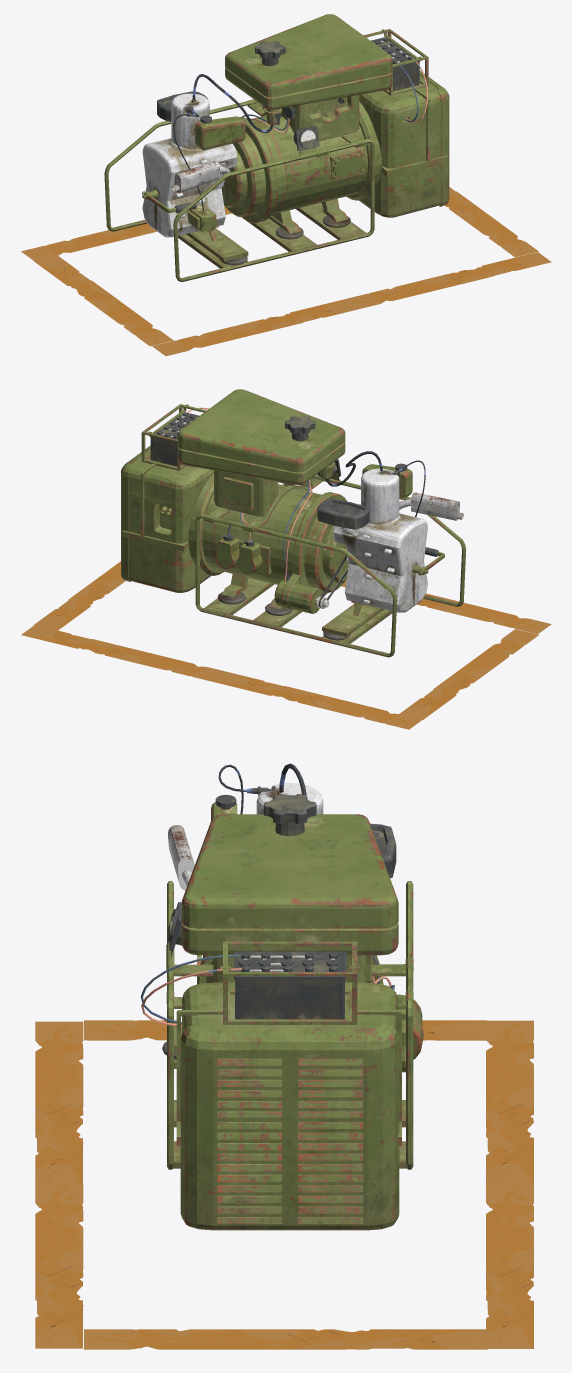
The model's file is P_FuelPowered.obj.
The picture shows the model from 3 angles, top to bottom: view 1: azimuth 30°, elevation 25°; view 2: azimuth 150°, elevation 25°; view 3: azimuth 270°, elevation 25°; orthographic projection. The views are drawn at different scales.
Bounding box in the file's own units: 3.26 × 1.61 × 2.15.
7 materials, 7 textured.
